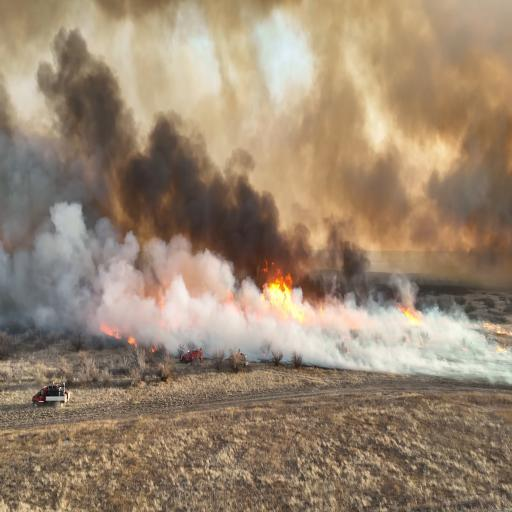fire: (260, 246, 300, 322)
smoke: (26, 39, 254, 262), (314, 238, 448, 369), (432, 110, 511, 248)
